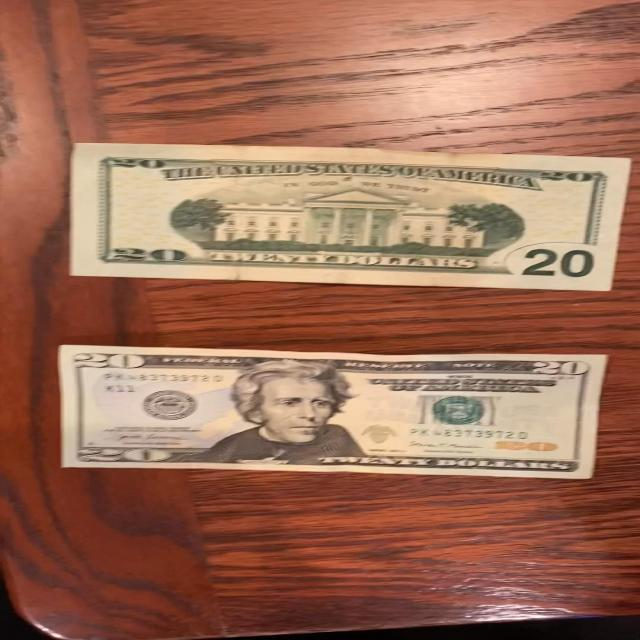20-Back: (63, 131, 640, 297)
20-Front: (44, 332, 621, 488)
